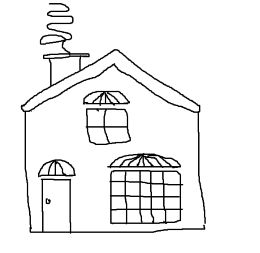closed_window: (104, 146, 185, 227), (77, 87, 134, 147)
door: (32, 153, 80, 237)
roof: (11, 46, 215, 117)
smoking_chimney: (36, 1, 92, 96)
wall: (11, 98, 209, 238)
